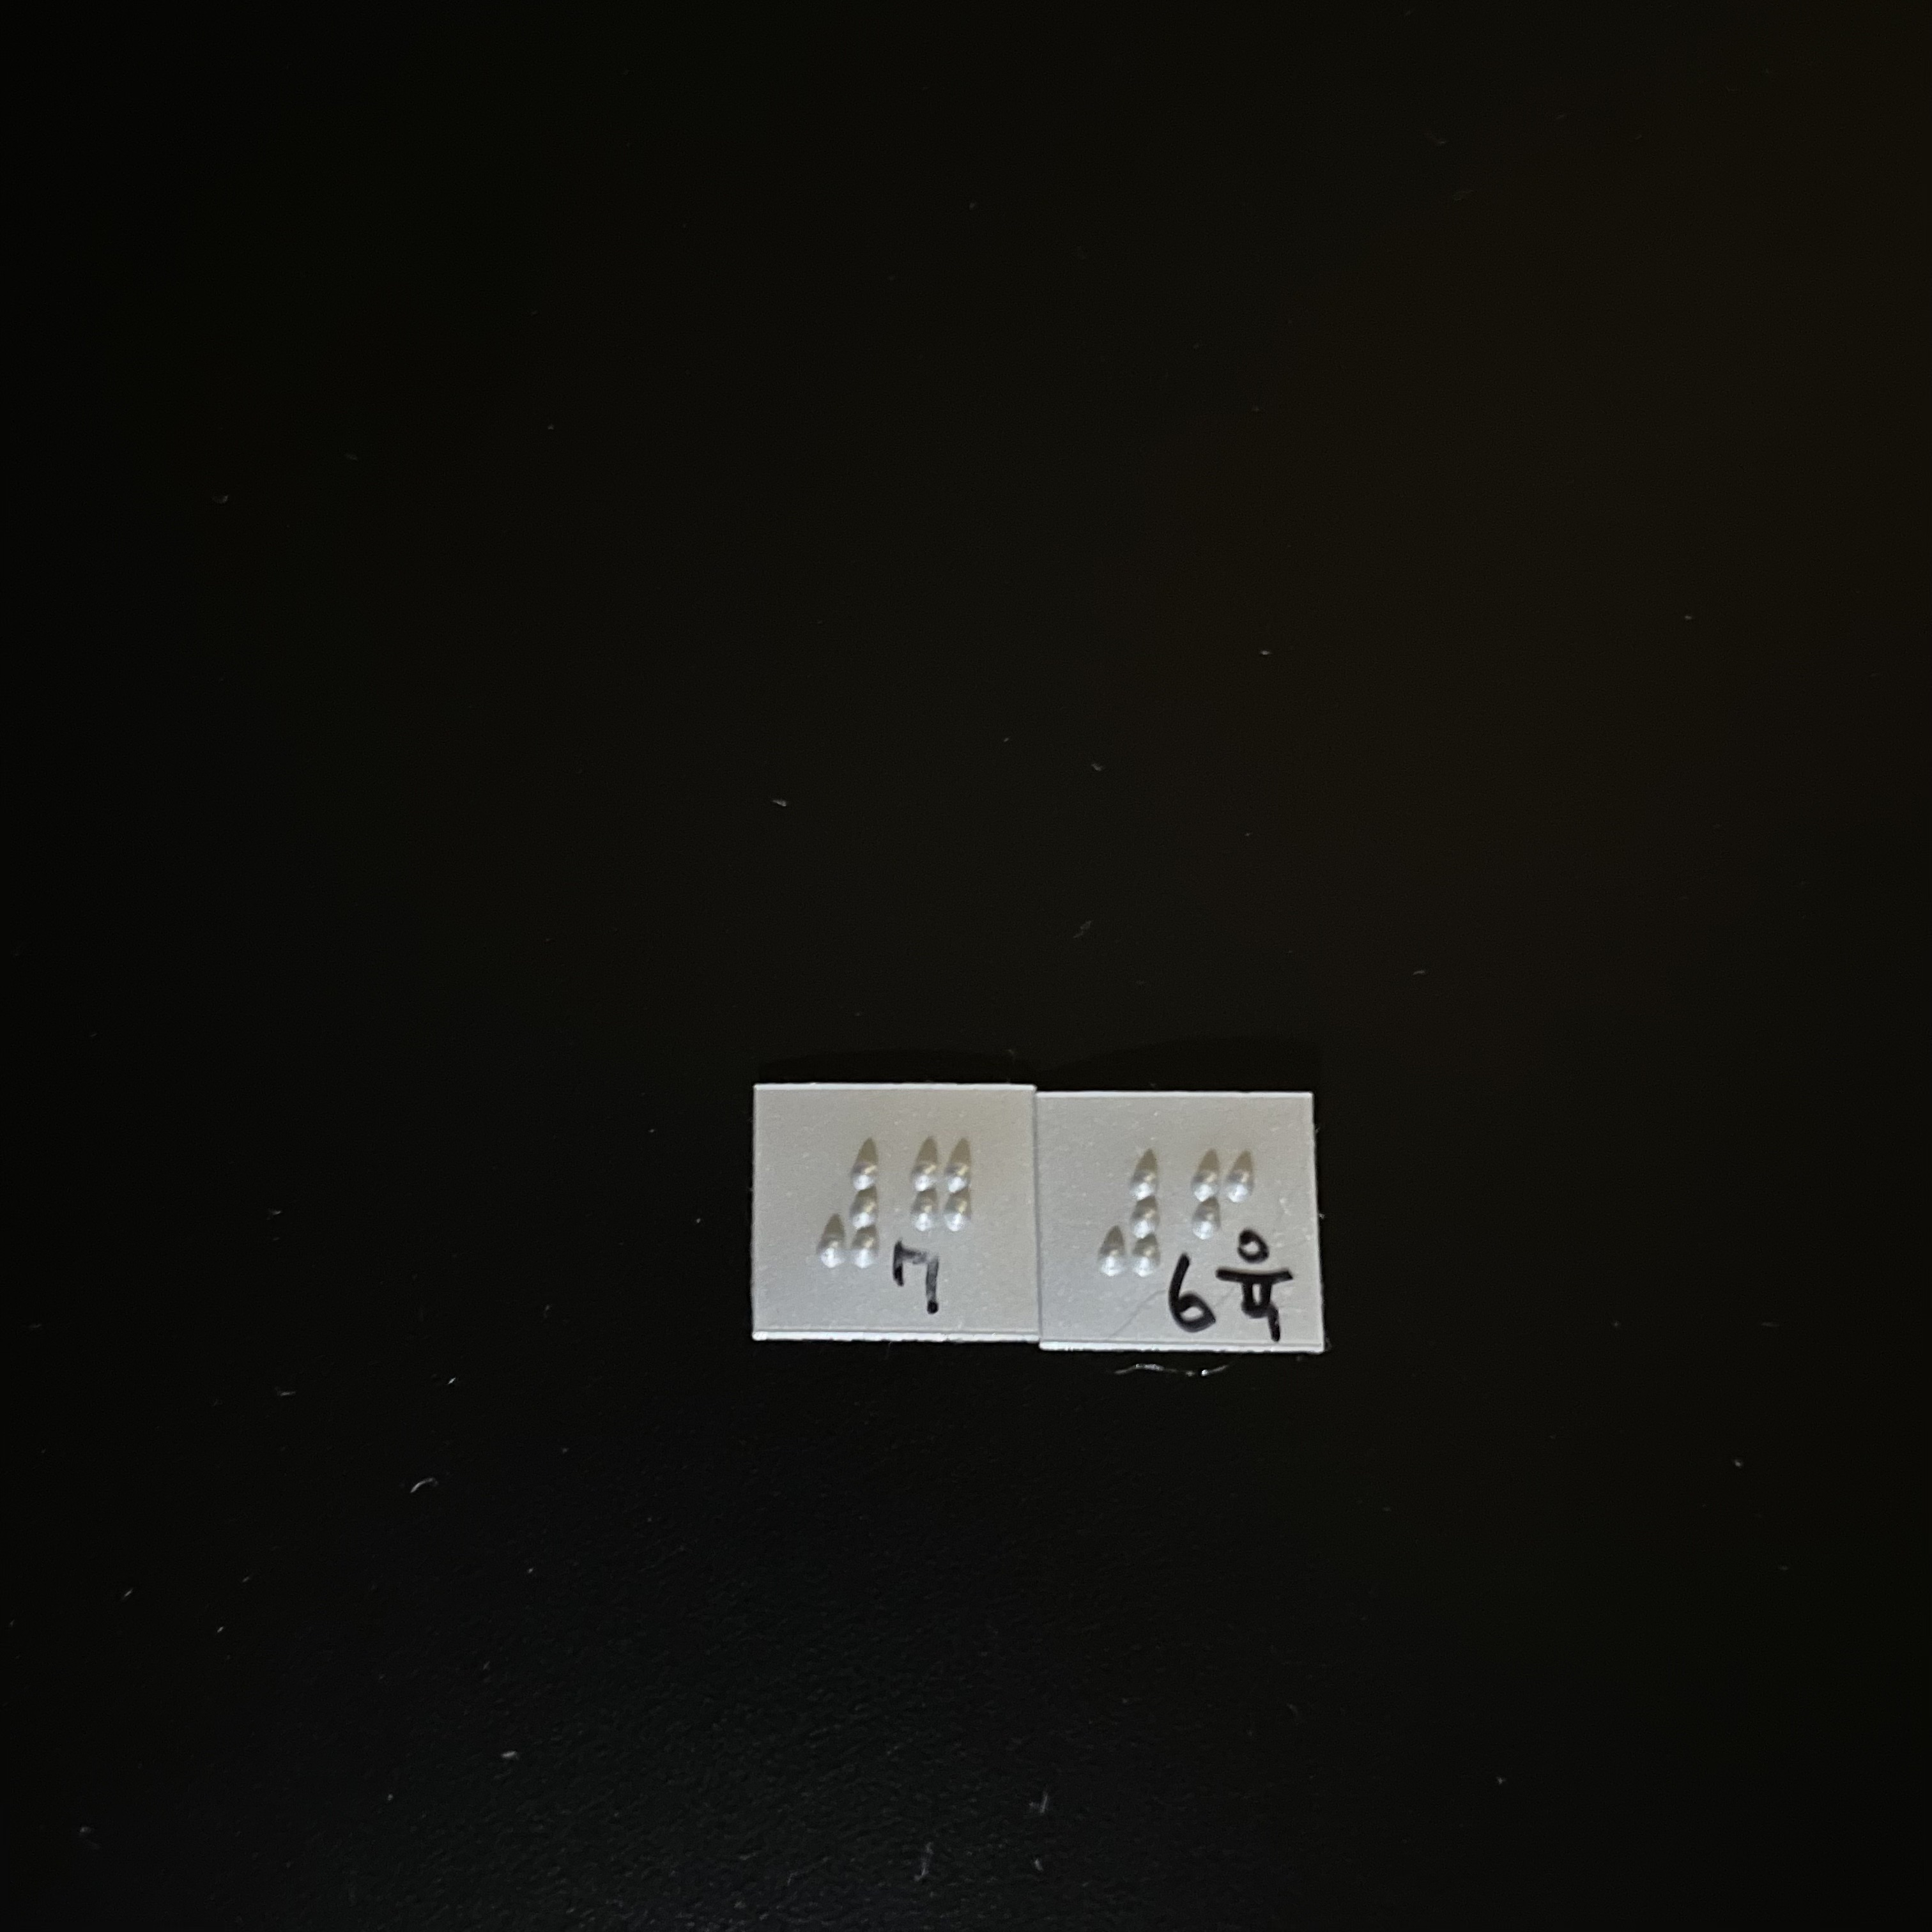#: (813, 1132, 895, 1266), (1091, 1147, 1172, 1282)
f: (1179, 1147, 1263, 1289)
g: (900, 1132, 979, 1278)
